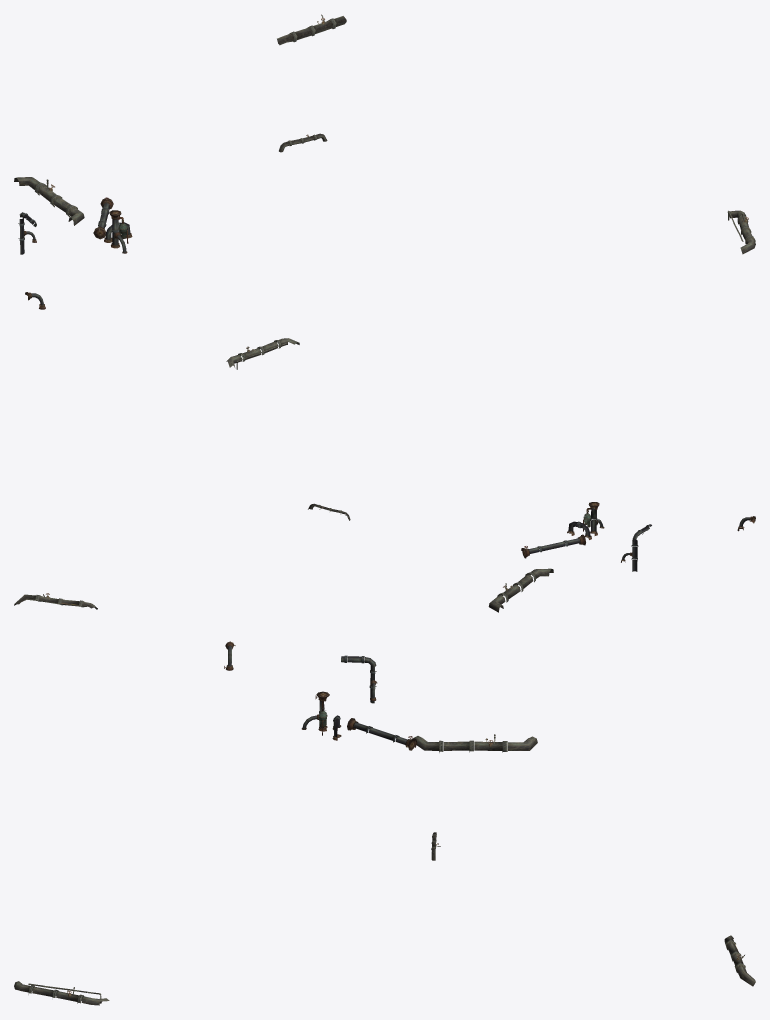
File: S_Build_West022_A.FBX
3 views of the same model, one above another, from view 1: azimuth 30°, elevation 25°; view 2: azimuth 150°, elevation 25°; view 3: azimuth 270°, elevation 25° (orthographic). The views are drawn at different scales.
Visible parts, largest first — view 1: S_Build_West022_001, S_Build_West022_003, S_Build_West022_004; view 2: S_Build_West022_001, S_Build_West022_004, S_Build_West022_003; view 3: S_Build_West022_001, S_Build_West022_004.
Part boxes in pixels (bbox=[...]): S_Build_West022_001: bbox=[14, 177, 84, 225]; S_Build_West022_003: bbox=[277, 14, 346, 45]; S_Build_West022_004: bbox=[729, 210, 755, 254]; S_Build_West022_001: bbox=[488, 568, 553, 612]; S_Build_West022_004: bbox=[226, 338, 299, 367]; S_Build_West022_003: bbox=[14, 593, 97, 609]; S_Build_West022_001: bbox=[413, 734, 537, 752]; S_Build_West022_004: bbox=[14, 981, 109, 1005].
Size of the model in its own units: 16010 by 1660 by 15258.
